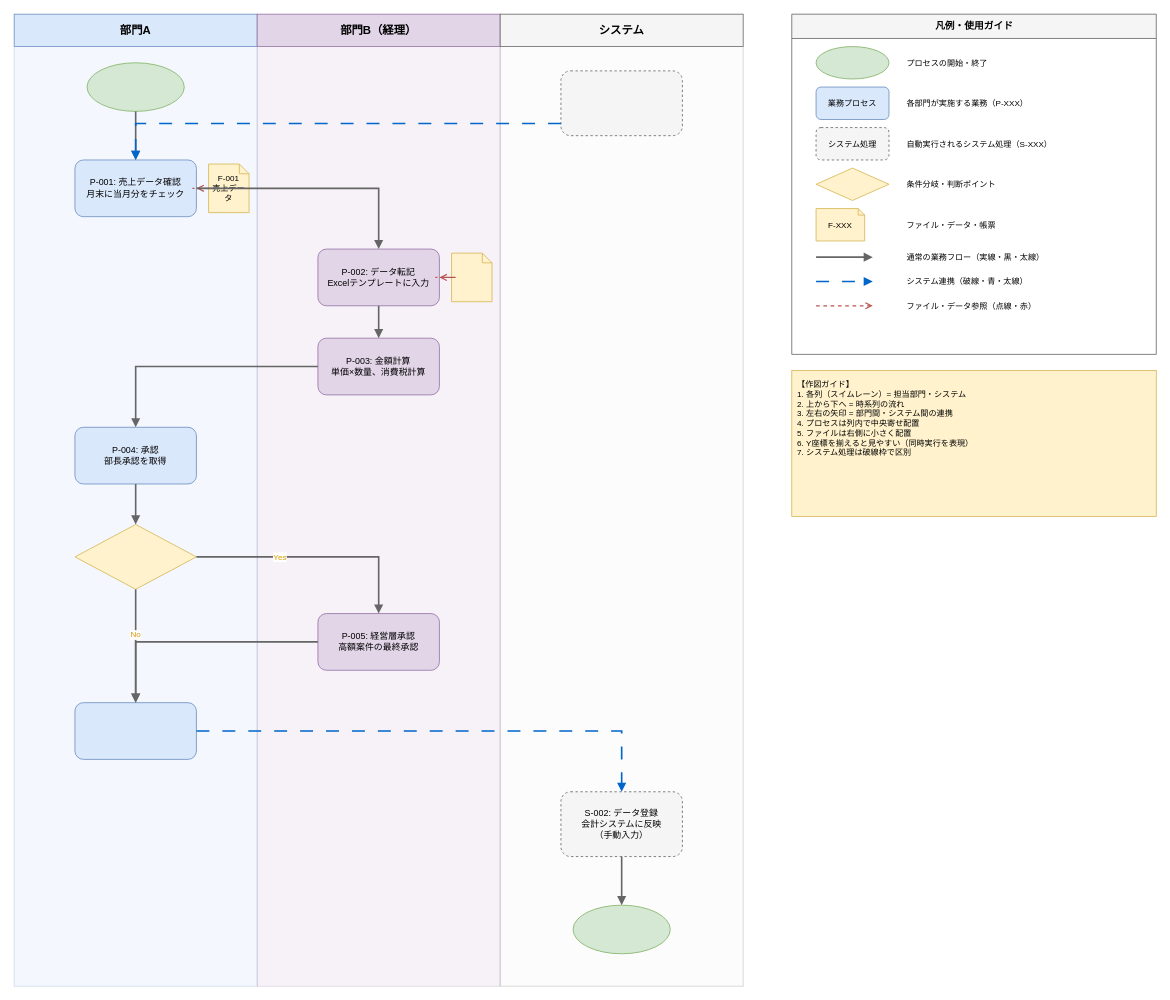
Image size: 1170x1000. Some labels were removed from this diagram. Here are the shapes that lost their labels. From the top down, the centre of each, then its label:
At (852,62): "開始/終了".
At (135,86): "開始".
At (621,103): "S-001: データ抽出 販売管理システム （月次バッチ）".
At (852,183): "判断".
At (471,277): "F-002 請求書 テンプレート".
At (135,556): "100万円以上？".
At (135,730): "P-006: 発送準備 PDF化とメール送付".
At (621,929): "終了".
